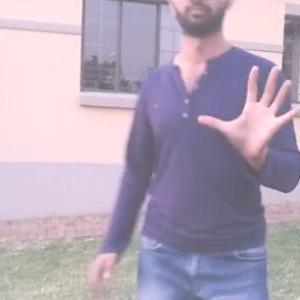follow_hand: (196, 56, 299, 169)
